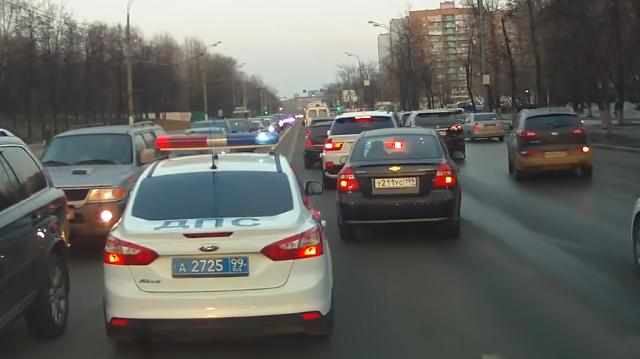non emergency car: (32, 122, 170, 241), (338, 128, 459, 243), (504, 108, 597, 183)
police car: (106, 130, 337, 343)
